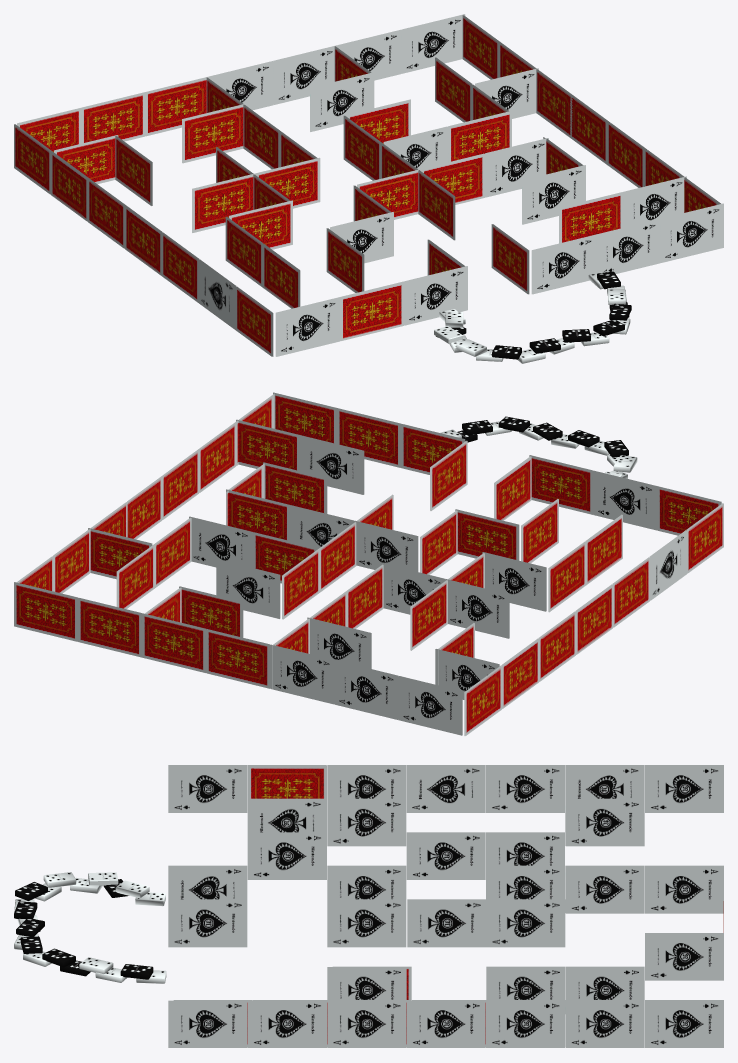
File: view.obj
3 renders of one model, top to bottom at view 1: azimuth 30°, elevation 25°; view 2: azimuth 150°, elevation 25°; view 3: azimuth 270°, elevation 25°, orthographic. The views are drawn at different scales.
Bounding box in the file's own units: 1207 × 113 × 1531.
